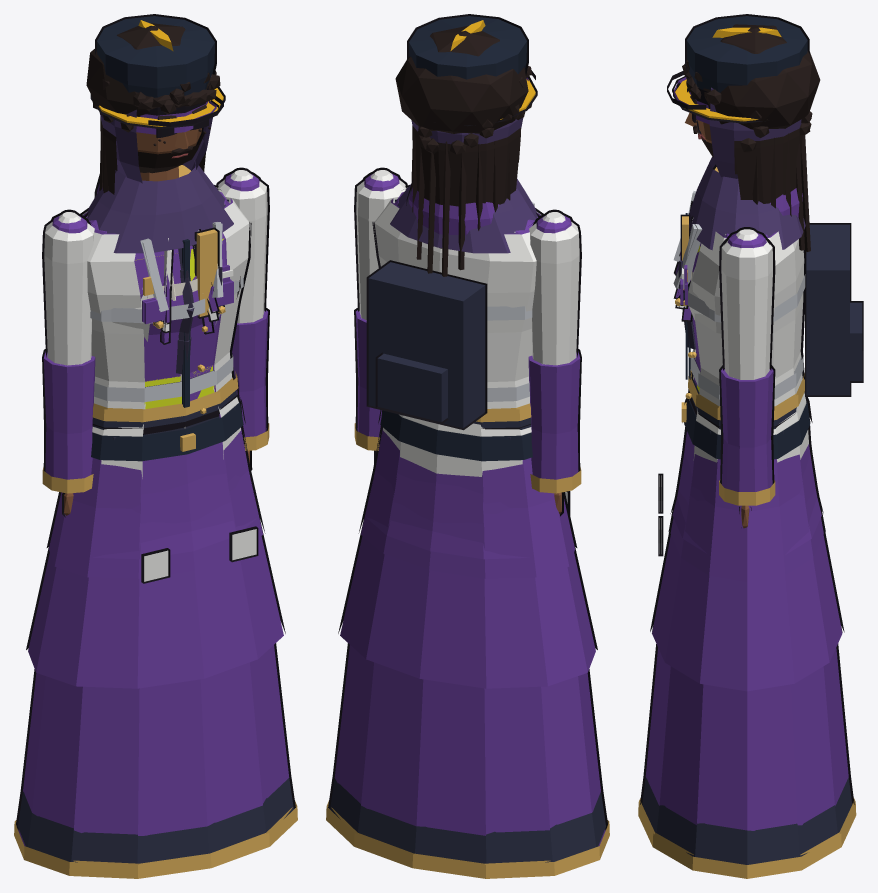
File: kairos-citizen-v4.glb
The picture shows the model from 3 angles, left to right: view 1: azimuth 30°, elevation 25°; view 2: azimuth 150°, elevation 25°; view 3: azimuth 270°, elevation 25°; orthographic projection.
Visible parts, largest first — view 1: abaya_robe.001, dress_skirt.001, tunic_hem.001, long_skirt.001, labcoat_body, hijab_drape, police_crown, coat_upper_L, long_sleeve_abaya_L, abaya_trim.001, abaya_robe, coat_upper_R (+20 smaller); view 2: abaya_robe.001, dress_skirt.001, tunic_hem.001, backpack.001, labcoat_body, long_skirt.001, afro_crown, coat_upper_L, long_sleeve_abaya_L, police_crown, long_side, abaya_trim.001 (+18 smaller); view 3: abaya_robe.001, dress_skirt.001, tunic_hem.001, backpack.001, long_skirt.001, coat_upper_R, labcoat_body, long_sleeve_abaya_R, police_crown, afro_crown, hijab_drape, backpack (+16 smaller).
Part boxes in pixels (bbox=[...]): abaya_robe.001: bbox=[16, 214, 294, 846]; dress_skirt.001: bbox=[26, 430, 285, 688]; tunic_hem.001: bbox=[46, 395, 265, 578]; long_skirt.001: bbox=[16, 374, 295, 863]; labcoat_body: bbox=[80, 185, 251, 409]; hijab_drape: bbox=[87, 160, 233, 253]; police_crown: bbox=[95, 14, 216, 97]; coat_upper_L: bbox=[42, 209, 94, 365]; long_sleeve_abaya_L: bbox=[42, 349, 95, 479]; abaya_trim.001: bbox=[14, 801, 297, 878]; abaya_robe: bbox=[81, 186, 249, 401]; coat_upper_R: bbox=[216, 167, 269, 323]; abaya_robe.001: bbox=[329, 427, 607, 846]; dress_skirt.001: bbox=[338, 430, 597, 688]; tunic_hem.001: bbox=[358, 426, 577, 578]; backpack.001: bbox=[366, 260, 486, 430]; labcoat_body: bbox=[372, 185, 543, 408]; long_skirt.001: bbox=[328, 417, 607, 863]; afro_crown: bbox=[395, 25, 528, 133]; coat_upper_L: bbox=[529, 209, 581, 365]; long_sleeve_abaya_L: bbox=[528, 349, 581, 479]; police_crown: bbox=[407, 14, 528, 79]; long_side: bbox=[412, 133, 520, 248]; abaya_trim.001: bbox=[326, 801, 609, 878]; abaya_robe.001: bbox=[641, 280, 853, 830]; dress_skirt.001: bbox=[650, 428, 844, 691]; tunic_hem.001: bbox=[668, 399, 825, 582]; backpack.001: bbox=[806, 223, 851, 396]; long_skirt.001: bbox=[640, 372, 854, 864]; coat_upper_R: bbox=[719, 227, 775, 379]; labcoat_body: bbox=[692, 231, 810, 456]; long_sleeve_abaya_R: bbox=[719, 365, 775, 491]; police_crown: bbox=[685, 14, 809, 92]; afro_crown: bbox=[703, 24, 820, 129]; hijab_drape: bbox=[689, 157, 805, 250]; backpack: bbox=[805, 223, 850, 396].
Size of the model in its own units: 0.598 by 1.73 by 0.449.
